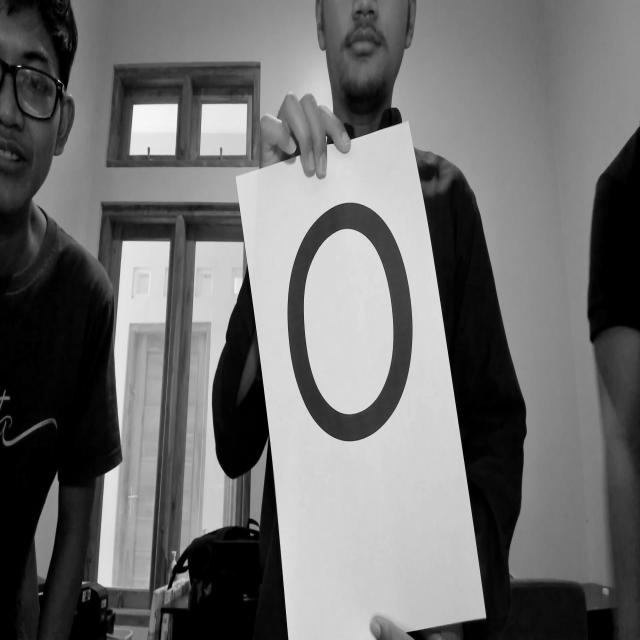o: (277, 183, 424, 462)
